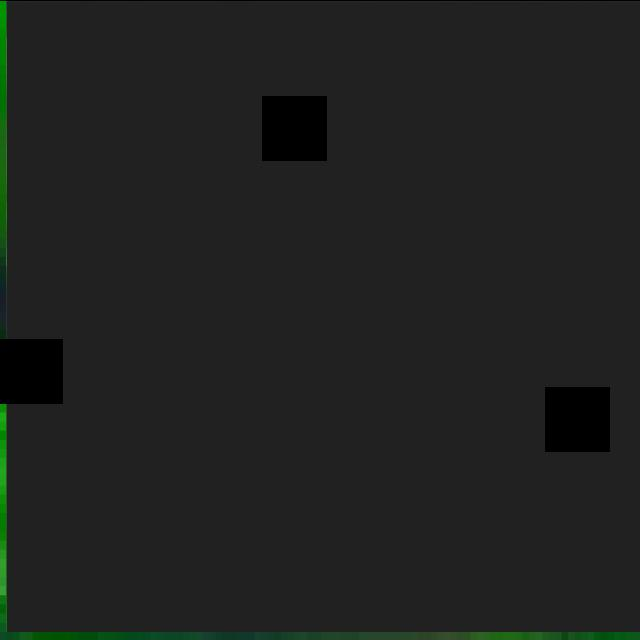nofire: (6, 0, 640, 631)
